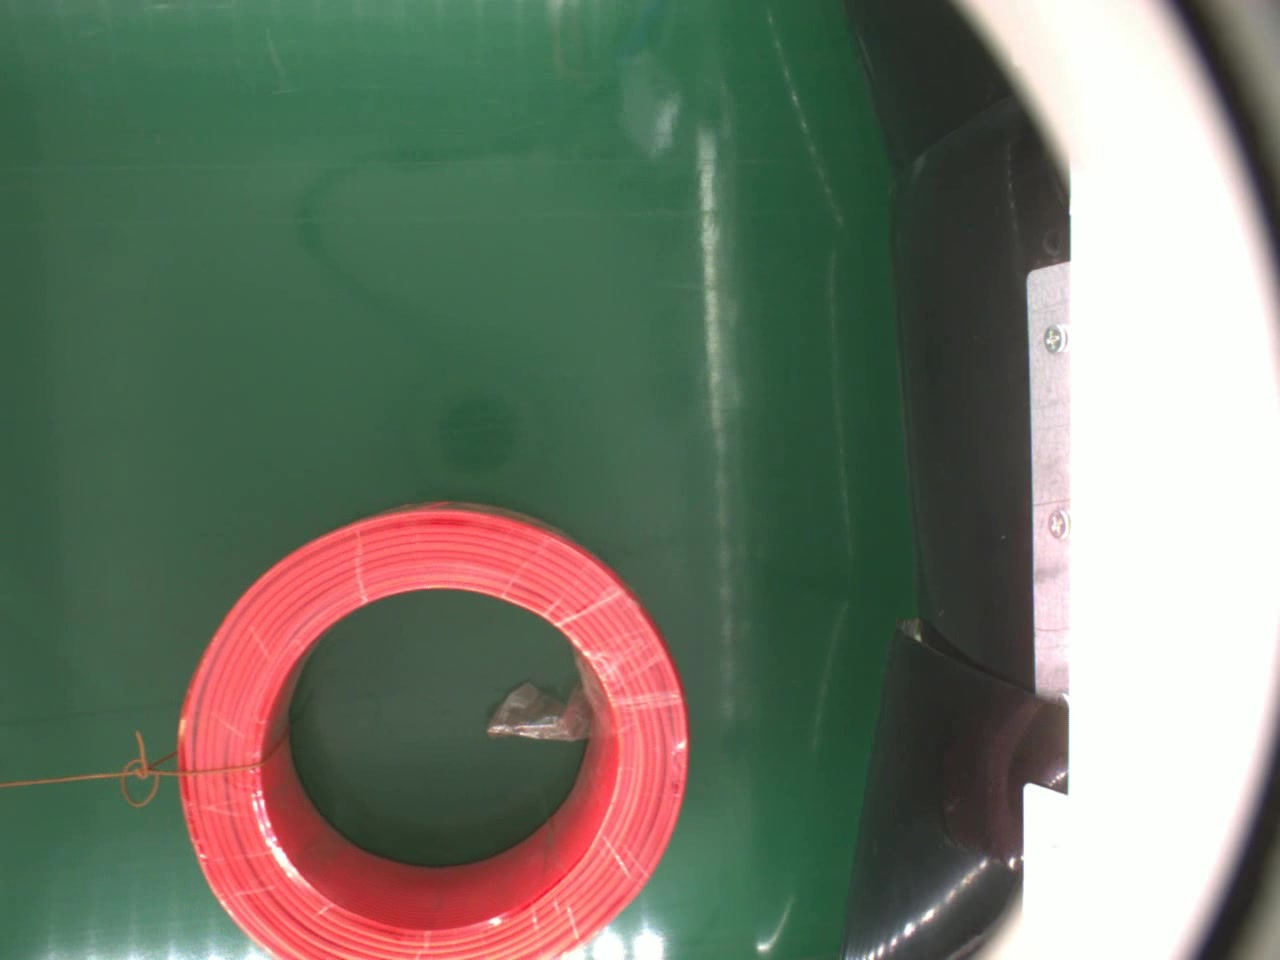red: (179, 500, 695, 960)
